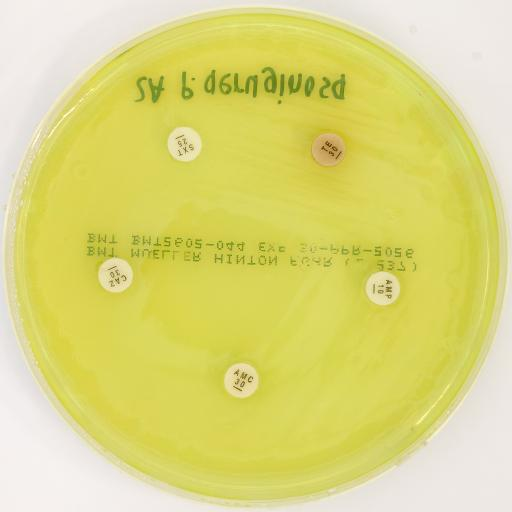disc: (223, 362, 259, 398), (98, 258, 133, 293), (365, 271, 401, 305), (167, 127, 201, 162), (312, 132, 346, 166)
